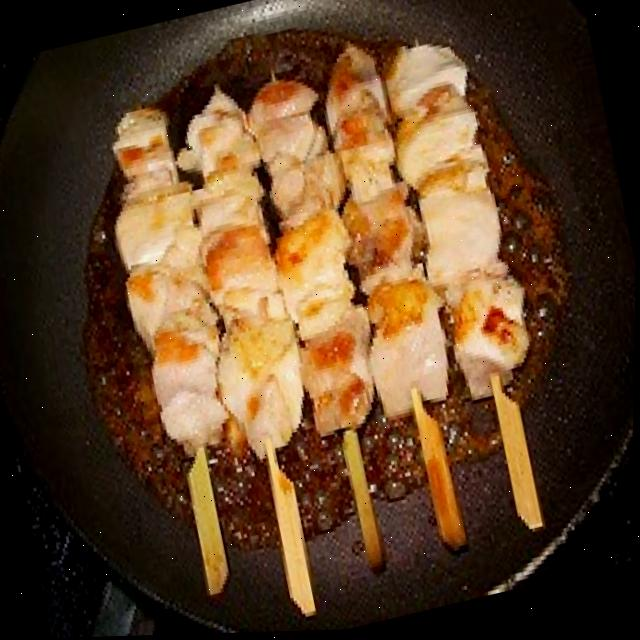烧串烤肉: (74, 0, 593, 638)
